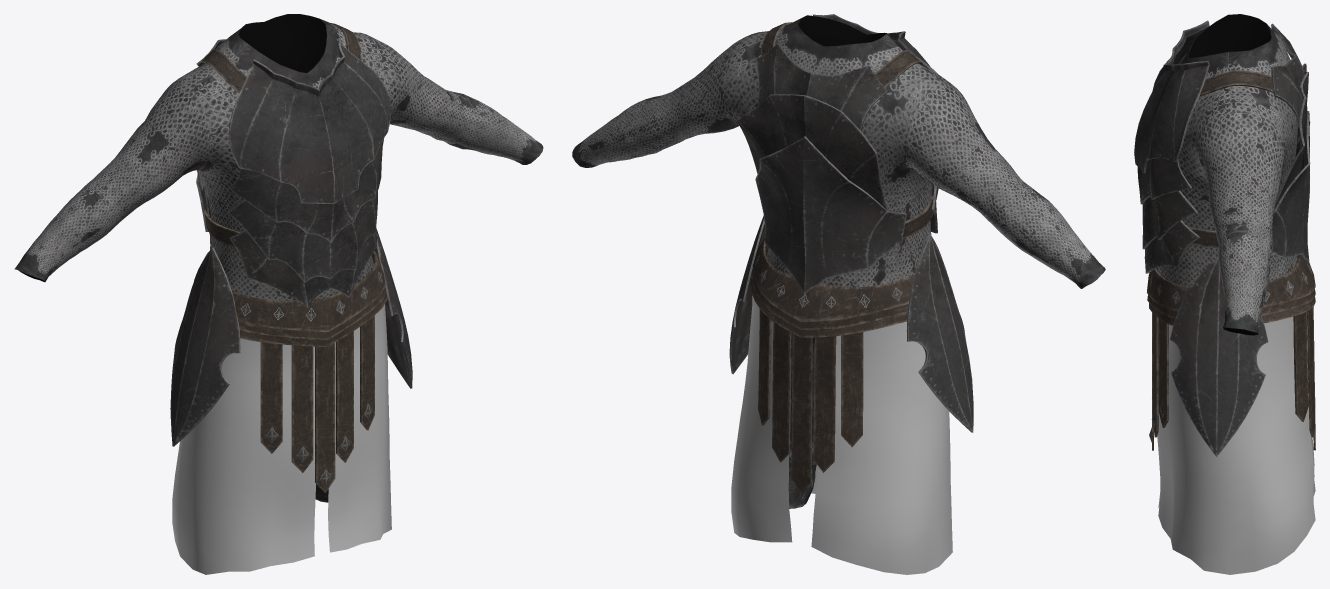
The model's file is sk_uruk_mordor_chainmail_heavy_a2.fbx.
3 views of the same model, side by side, from view 1: azimuth 30°, elevation 25°; view 2: azimuth 150°, elevation 25°; view 3: azimuth 270°, elevation 25° (orthographic). The views are drawn at different scales.
Visible parts, largest first — view 1: sk_uruk_mordor_chainmail_heavy_a2.0, sk_uruk_mordor_chainmail_heavy_a2.3, sk_uruk_mordor_chainmail_heavy_a2.2, sk_uruk_mordor_chainmail_heavy_a2.1, sk_uruk_mordor_chainmail_heavy_a2.4; view 2: sk_uruk_mordor_chainmail_heavy_a2.0, sk_uruk_mordor_chainmail_heavy_a2.2, sk_uruk_mordor_chainmail_heavy_a2.3, sk_uruk_mordor_chainmail_heavy_a2.1, sk_uruk_mordor_chainmail_heavy_a2.4; view 3: sk_uruk_mordor_chainmail_heavy_a2.2, sk_uruk_mordor_chainmail_heavy_a2.0, sk_uruk_mordor_chainmail_heavy_a2.3, sk_uruk_mordor_chainmail_heavy_a2.4, sk_uruk_mordor_chainmail_heavy_a2.1.
Part boxes in pixels (x1=…): sk_uruk_mordor_chainmail_heavy_a2.0: x1=14, y1=14, x2=543, y2=502; sk_uruk_mordor_chainmail_heavy_a2.3: x1=196, y1=38, x2=391, y2=307; sk_uruk_mordor_chainmail_heavy_a2.2: x1=172, y1=304, x2=391, y2=574; sk_uruk_mordor_chainmail_heavy_a2.1: x1=194, y1=23, x2=387, y2=492; sk_uruk_mordor_chainmail_heavy_a2.4: x1=170, y1=229, x2=412, y2=446; sk_uruk_mordor_chainmail_heavy_a2.0: x1=572, y1=15, x2=1105, y2=508; sk_uruk_mordor_chainmail_heavy_a2.2: x1=731, y1=295, x2=952, y2=574; sk_uruk_mordor_chainmail_heavy_a2.3: x1=736, y1=14, x2=938, y2=294; sk_uruk_mordor_chainmail_heavy_a2.1: x1=750, y1=22, x2=933, y2=492; sk_uruk_mordor_chainmail_heavy_a2.4: x1=729, y1=215, x2=973, y2=432; sk_uruk_mordor_chainmail_heavy_a2.2: x1=1157, y1=316, x2=1315, y2=574; sk_uruk_mordor_chainmail_heavy_a2.0: x1=1157, y1=14, x2=1298, y2=335; sk_uruk_mordor_chainmail_heavy_a2.3: x1=1134, y1=20, x2=1310, y2=273; sk_uruk_mordor_chainmail_heavy_a2.4: x1=1170, y1=256, x2=1268, y2=456; sk_uruk_mordor_chainmail_heavy_a2.1: x1=1147, y1=70, x2=1315, y2=450.
Bounding box in the file's own units: 1.37 × 0.4273 × 1.29.
